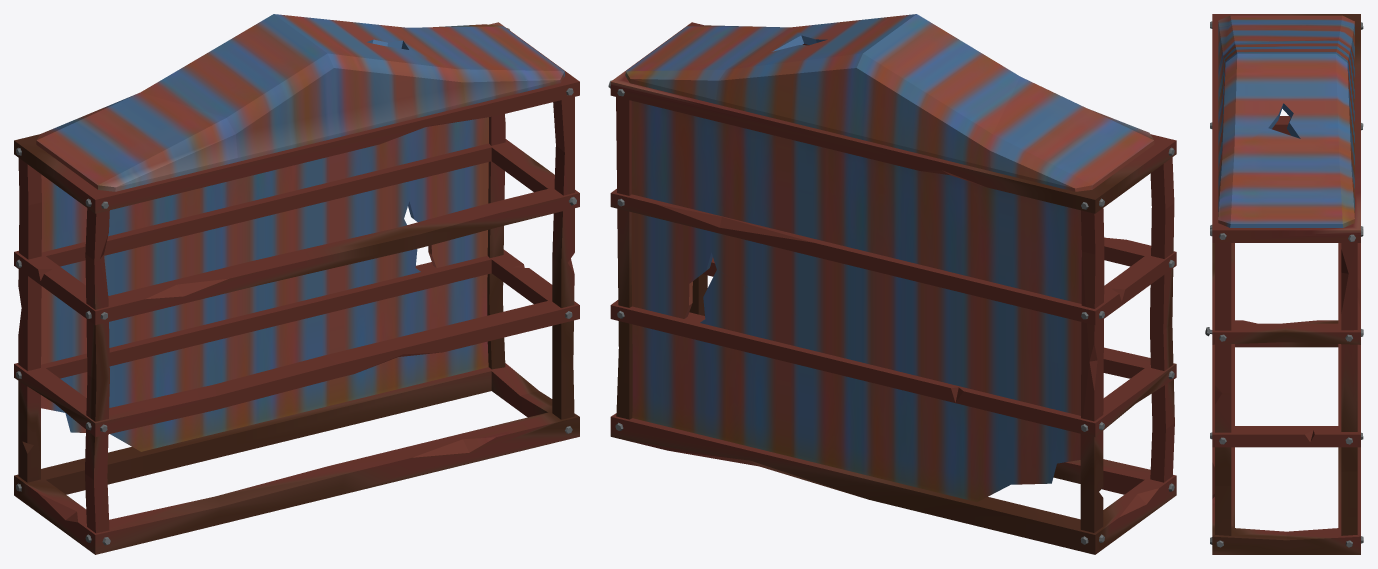
The model's file is SM_Prop_Target_Ducks_01.glb.
3 renders of one model, left to right at view 1: azimuth 30°, elevation 25°; view 2: azimuth 150°, elevation 25°; view 3: azimuth 270°, elevation 25°, orthographic. The views are drawn at different scales.
Parts seen in each view (by area): view 1: SM_Prop_Target_Ducks_01; view 2: SM_Prop_Target_Ducks_01; view 3: SM_Prop_Target_Ducks_01.
Part boxes in pixels (left/top/right/bottom): SM_Prop_Target_Ducks_01: left=14, top=14, right=579, bottom=554; SM_Prop_Target_Ducks_01: left=608, top=14, right=1176, bottom=554; SM_Prop_Target_Ducks_01: left=1205, top=14, right=1363, bottom=554.
Bounding box in the file's own units: 228 × 191 × 69.29.
1 material, 1 textured.
